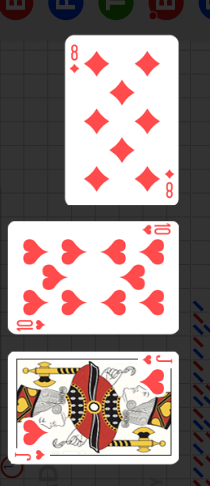10H: (14, 318, 46, 333), (140, 224, 171, 238)
8D: (68, 44, 80, 76)
